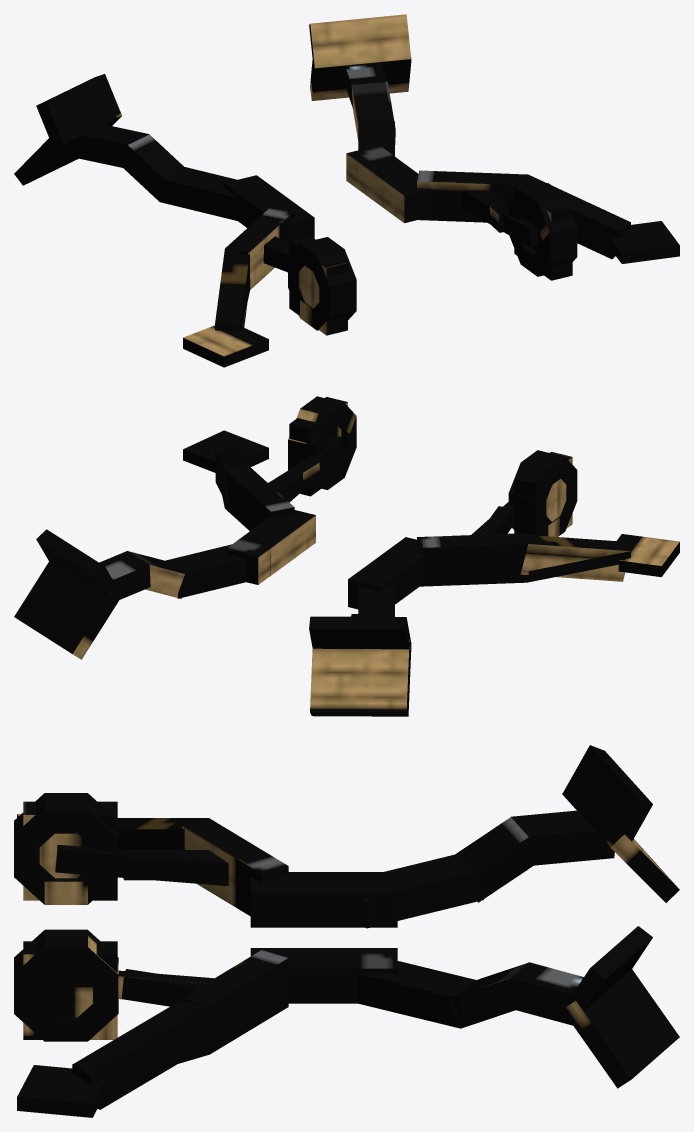
3 views of the same model, one above another, from view 1: azimuth 30°, elevation 25°; view 2: azimuth 150°, elevation 25°; view 3: azimuth 270°, elevation 25° (orthographic). The views are drawn at different scales.
Visible parts, largest first — view 1: body; view 2: body; view 3: body.
Boxes of the visible parts, x1=… form: body: x1=14, y1=14, x2=679, y2=367; body: x1=14, y1=396, x2=679, y2=716; body: x1=14, y1=745, x2=679, y2=1117.
Size of the model in its own units: 5.44 by 1.09 by 5.16.
